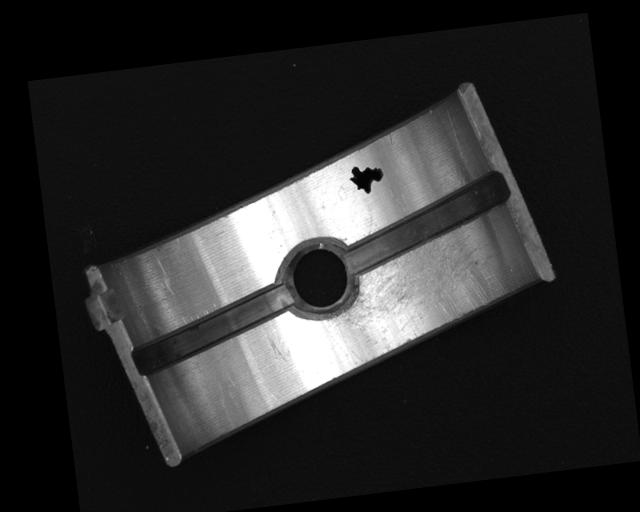blot: (346, 162, 386, 198)
gap: (339, 171, 512, 274), (127, 283, 300, 377)
hole: (277, 230, 361, 323)
nick: (150, 248, 175, 296)
scratch: (320, 222, 512, 375)
